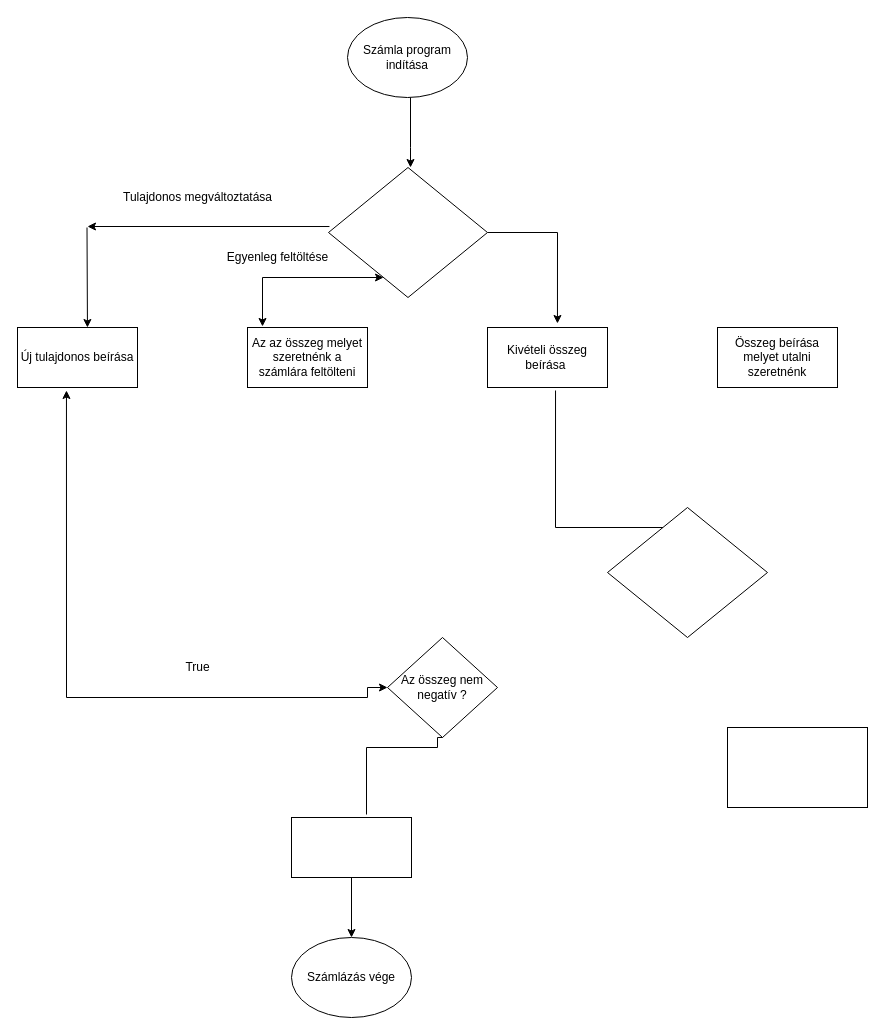
This 885x1035 diagram has some shape labels left out. Here are the shapes that lost their labels. From the top down, the box of each, then its label:
(328, 166, 488, 298): Felhasználó igényének eldöntése
(606, 506, 768, 638): A számlán levő pénz elegendő a kivételhez?
(290, 816, 412, 878): Engedélyezés
